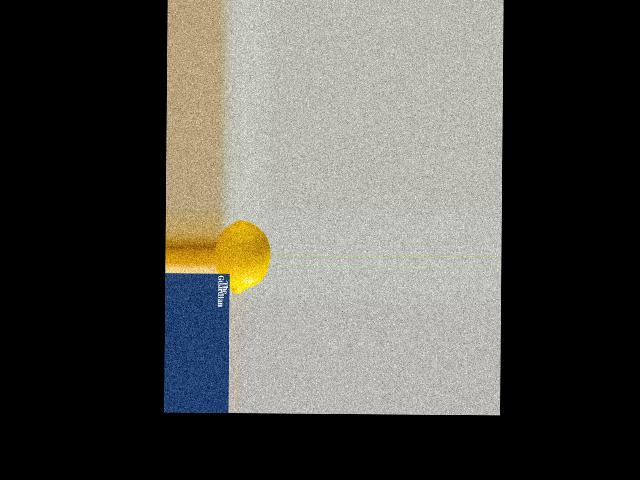lemon: (214, 219, 271, 292)
